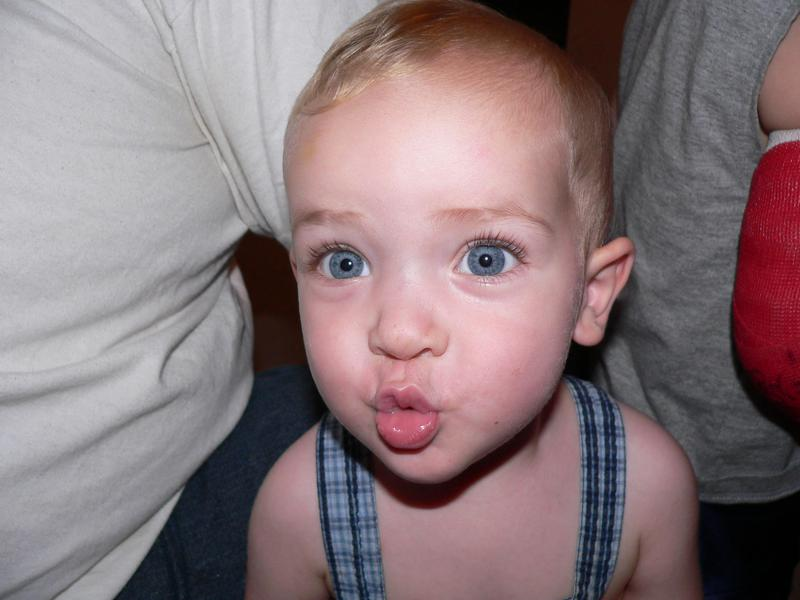person: (244, 2, 700, 599)
